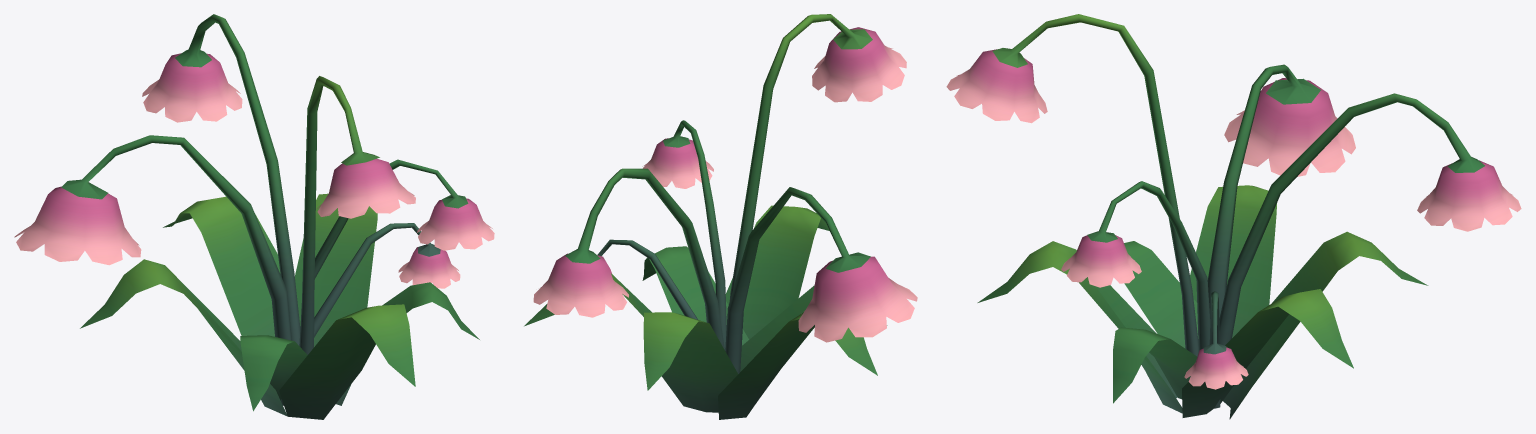
File: flower_002_base_material_0.fbx
3 views of the same model, side by side, from view 1: azimuth 30°, elevation 25°; view 2: azimuth 150°, elevation 25°; view 3: azimuth 270°, elevation 25° (orthographic). The views are drawn at different scales.
Parts seen in each view (by area): view 1: flower_002_base_material_0; view 2: flower_002_base_material_0; view 3: flower_002_base_material_0.
Part boxes in pixels (box(x1,y1,x2,y2)): flower_002_base_material_0: box(14, 14, 494, 419); flower_002_base_material_0: box(524, 14, 917, 419); flower_002_base_material_0: box(946, 14, 1521, 419).
Size of the model in its own units: 2.63 by 3.25 by 2.35.
1 material, 1 textured.
